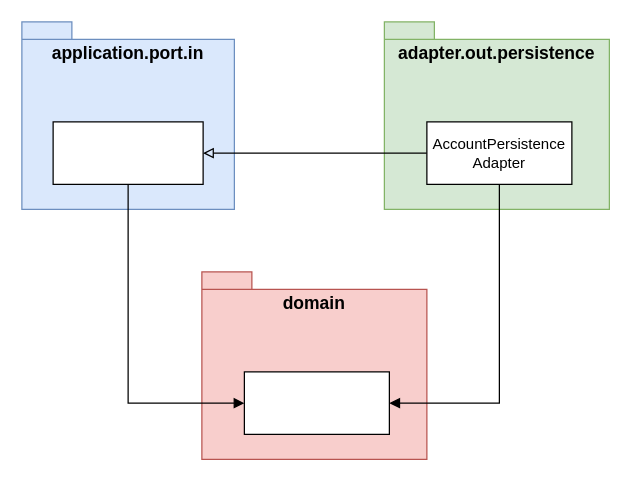
The diagram is 631 pixels wide and 481 high, and some of its shapes have lost their labels. The centre of each missing label's shape, as x and y in pixels:
<<interface>> SendMoney UseCase: point (127, 152)
Account: point (316, 402)
